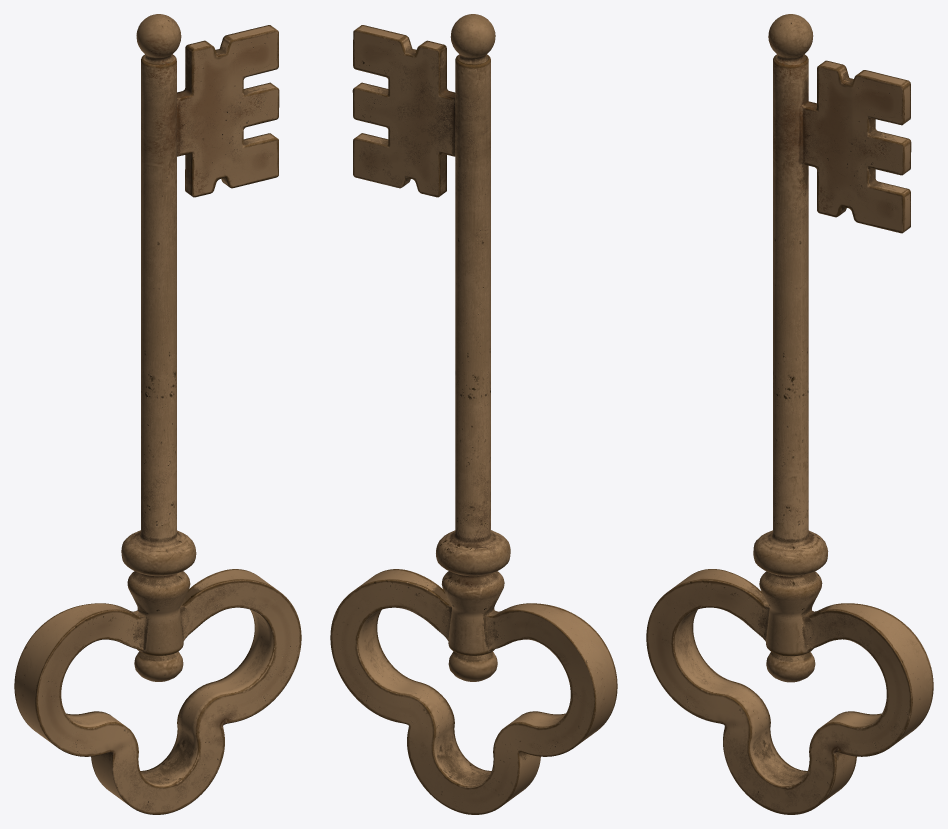
File: key_final.gltf
The picture shows the model from 3 angles, left to right: view 1: azimuth 30°, elevation 25°; view 2: azimuth 150°, elevation 25°; view 3: azimuth 330°, elevation 25°; orthographic projection.
Parts seen in each view (by area): view 1: Key_lowpoly.002; view 2: Key_lowpoly.002; view 3: Key_lowpoly.002.
Boxes of the visible parts, bbox=[...] form: Key_lowpoly.002: bbox=[14, 14, 301, 814]; Key_lowpoly.002: bbox=[330, 14, 617, 814]; Key_lowpoly.002: bbox=[646, 14, 933, 814].
Size of the model in its own units: 1.69 by 4.81 by 0.4144.
1 material, 1 textured.
